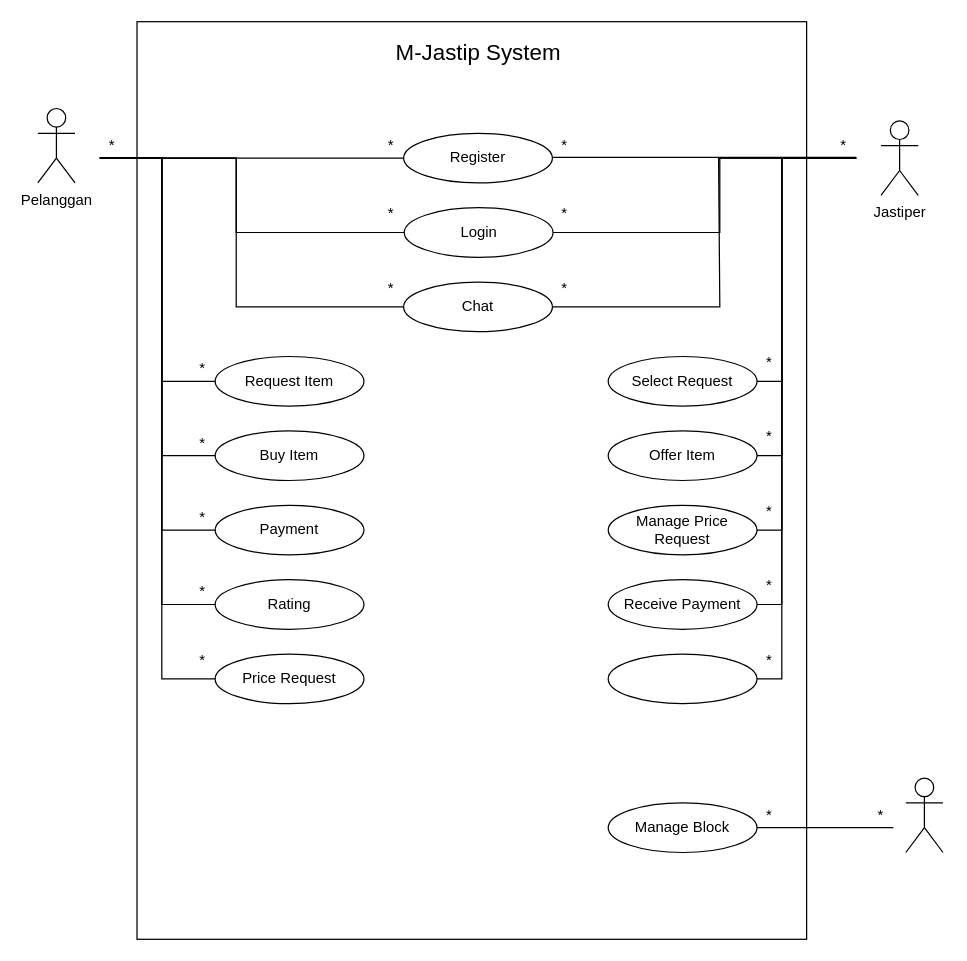
Some shapes in this 967 by 961 pixel diagram are drawn without their labels. The shapes that lost their labels are listed below. From the top down, each one's centre as x and y in pixels, then its label:
At pixel 682 678: "Verifikasi".
At pixel 924 814: "Admin".
